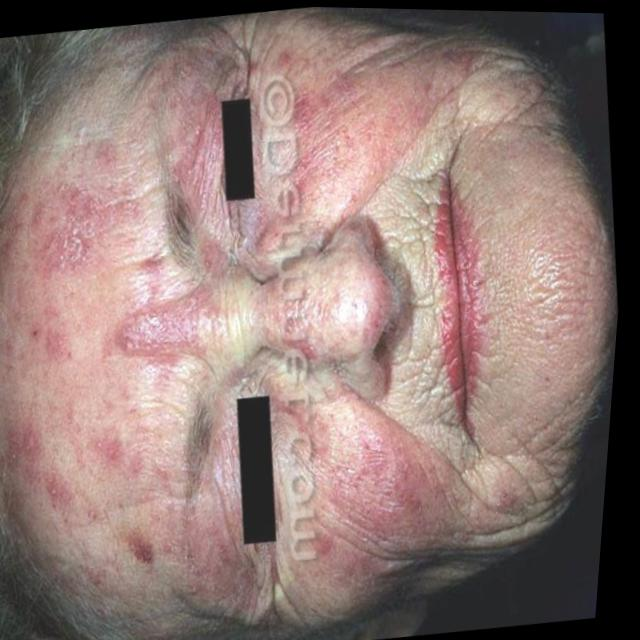Rosacea: (0, 80, 228, 605), (242, 18, 488, 241), (273, 373, 467, 581), (238, 246, 394, 372)
